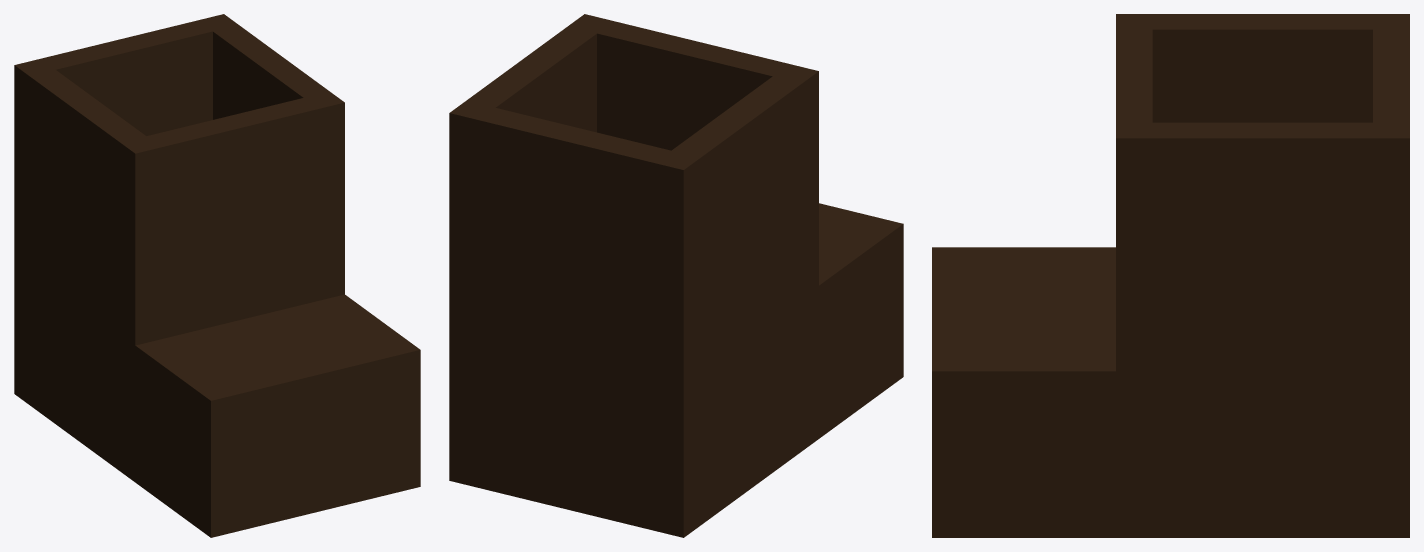
Rendered from humanoid-27.obj.
3 views of the same model, side by side, from view 1: azimuth 30°, elevation 25°; view 2: azimuth 150°, elevation 25°; view 3: azimuth 270°, elevation 25° (orthographic). The views are drawn at different scales.
Parts seen in each view (by area): view 1: humanoid-27; view 2: humanoid-27; view 3: humanoid-27.
Part boxes in pixels (x1=…): humanoid-27: x1=14, y1=14, x2=420, y2=537; humanoid-27: x1=449, y1=14, x2=903, y2=537; humanoid-27: x1=932, y1=14, x2=1409, y2=537.
Size of the model in its own units: 8 by 12 by 13.
Materials: 1 (1 with a texture image).
